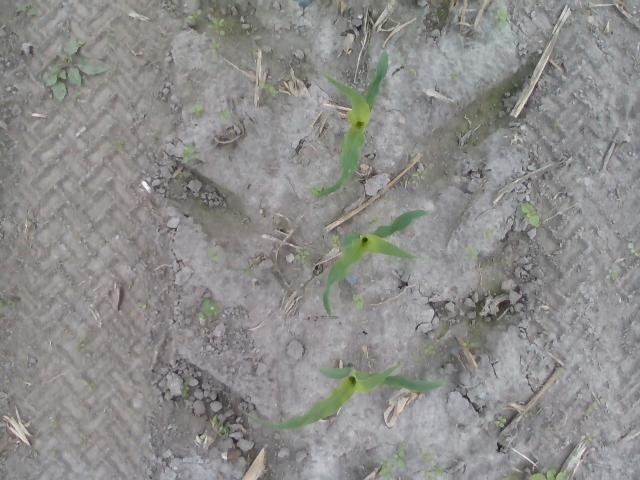Maize: (246, 361, 450, 431), (322, 209, 432, 319), (316, 50, 388, 198)
Weeds: (38, 39, 113, 104), (416, 447, 449, 480), (378, 446, 408, 480), (500, 467, 569, 480), (207, 8, 226, 48), (195, 296, 221, 320), (519, 200, 541, 227), (208, 414, 230, 440), (183, 8, 204, 26), (15, 0, 38, 16), (294, 246, 312, 264), (206, 244, 222, 264), (260, 82, 280, 97), (494, 7, 508, 28), (311, 183, 328, 200), (351, 291, 365, 311), (0, 296, 16, 312), (413, 168, 433, 180), (217, 110, 231, 127), (191, 103, 208, 117), (182, 145, 193, 166), (178, 382, 190, 401), (464, 246, 479, 261), (483, 226, 497, 242), (112, 138, 128, 152), (239, 262, 255, 276), (493, 414, 508, 428), (245, 29, 262, 41), (422, 343, 440, 354), (586, 400, 598, 414), (447, 69, 461, 81), (368, 215, 384, 225), (629, 243, 640, 257), (328, 233, 339, 247), (463, 340, 481, 348), (49, 417, 60, 430), (432, 8, 448, 16), (580, 432, 592, 442), (135, 302, 148, 311), (176, 170, 192, 177), (247, 47, 258, 57), (608, 270, 618, 280), (407, 67, 417, 76), (554, 46, 560, 60), (555, 366, 561, 378), (340, 222, 352, 228)
